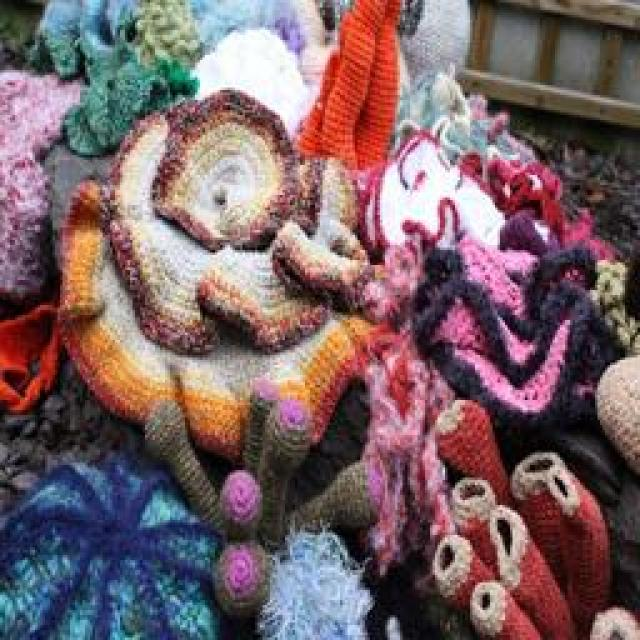reefs: (58, 86, 409, 461), (140, 378, 387, 617), (415, 397, 638, 638), (418, 216, 626, 433), (33, 0, 306, 156), (0, 462, 224, 638), (358, 131, 624, 267), (363, 237, 461, 578), (385, 39, 533, 176), (290, 1, 402, 176), (0, 70, 82, 298), (295, 0, 471, 101), (260, 530, 374, 636), (0, 303, 68, 415), (598, 354, 638, 470)
wrecks-ruins: (461, 0, 638, 130)
